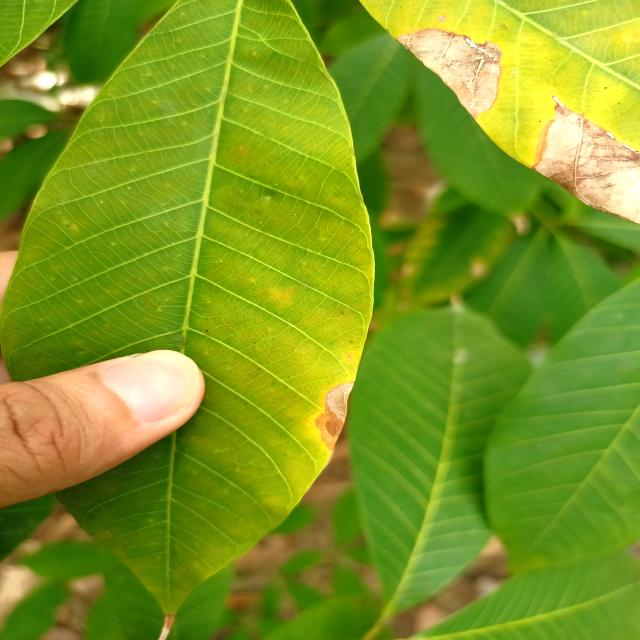Colletotrichum: (437, 15, 447, 22), (272, 338, 274, 341)
Leaf-Blight: (530, 94, 640, 225), (395, 28, 503, 119), (314, 382, 354, 451)
